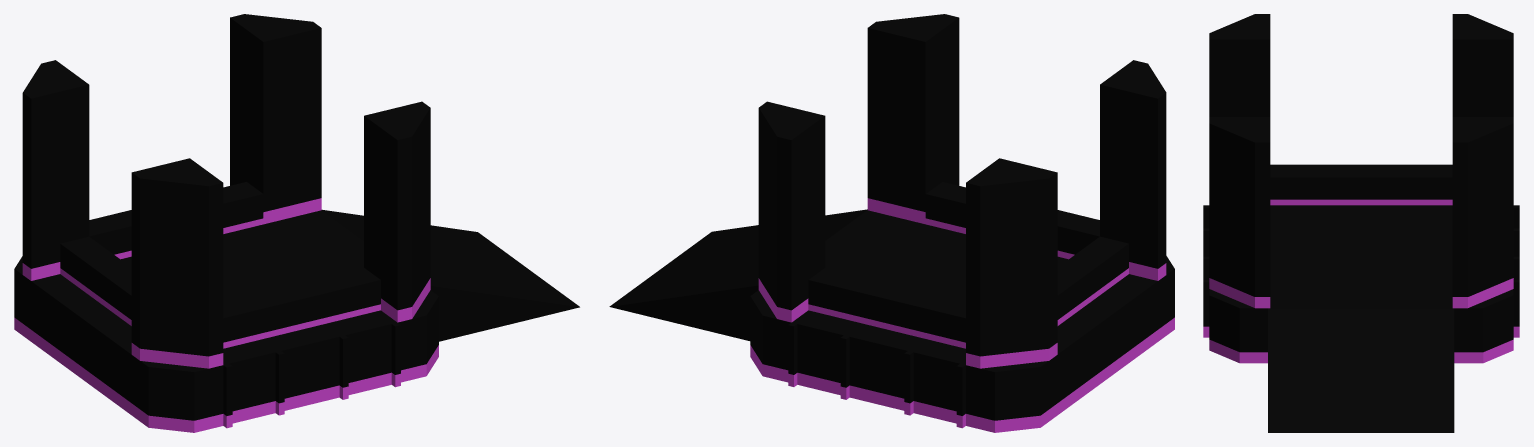
Rendered from TowerBase.fbx.
3 renders of one model, left to right at view 1: azimuth 30°, elevation 25°; view 2: azimuth 150°, elevation 25°; view 3: azimuth 270°, elevation 25°, orthographic. The views are drawn at different scales.
Parts seen in each view (by area): view 1: block_corner_large (×8), block (×9), block_half (×5), wall_slope, block_corner_small (×3), block_quarter, columns_large (×2); view 2: block_corner_large (×8), block (×9), wall_slope, block_half (×5), block_corner_small (×3), block_quarter, columns_large (×2); view 3: block_corner_large (×6), wall_slope, block (×4), block_quarter, block_corner_small (×2), columns_large (×4).
Boxes of the visible parts, x1=… form: block_corner_large (×8): x1=22, y1=14, x2=430, y2=368; block (×9): x1=31, y1=210, x2=396, y2=423; block_half (×5): x1=89, y1=182, x2=380, y2=348; wall_slope: x1=322, y1=209, x2=579, y2=341; block_corner_small (×3): x1=14, y1=256, x2=438, y2=432; block_quarter: x1=60, y1=236, x2=131, y2=325; columns_large (×2): x1=223, y1=322, x2=400, y2=428; block_corner_large (×8): x1=758, y1=14, x2=1166, y2=368; block (×9): x1=792, y1=210, x2=1157, y2=423; wall_slope: x1=609, y1=209, x2=867, y2=340; block_half (×5): x1=808, y1=182, x2=1099, y2=348; block_corner_small (×3): x1=750, y1=256, x2=1174, y2=432; block_quarter: x1=1057, y1=236, x2=1128, y2=325; columns_large (×2): x1=788, y1=322, x2=965, y2=428; block_corner_large (×6): x1=1209, y1=14, x2=1513, y2=308; wall_slope: x1=1268, y1=304, x2=1454, y2=432; block (×4): x1=1270, y1=205, x2=1452, y2=308; block_quarter: x1=1270, y1=164, x2=1452, y2=205; block_corner_small (×2): x1=1209, y1=289, x2=1513, y2=363; columns_large (×4): x1=1203, y1=205, x2=1519, y2=337.
Size of the model in its own units: 77.06 by 40 by 52.
